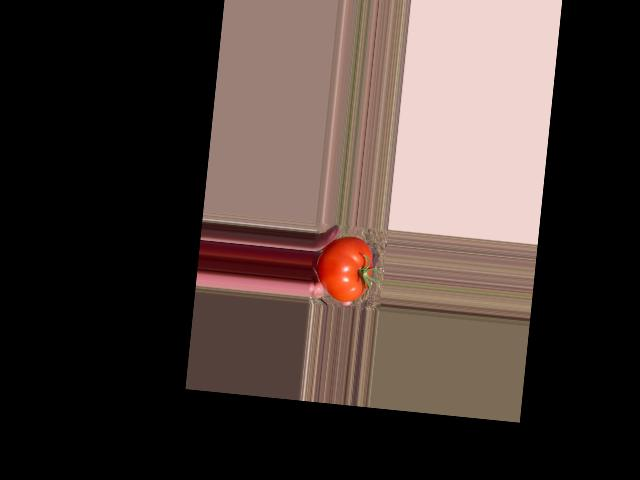tomato: (313, 233, 375, 304)
